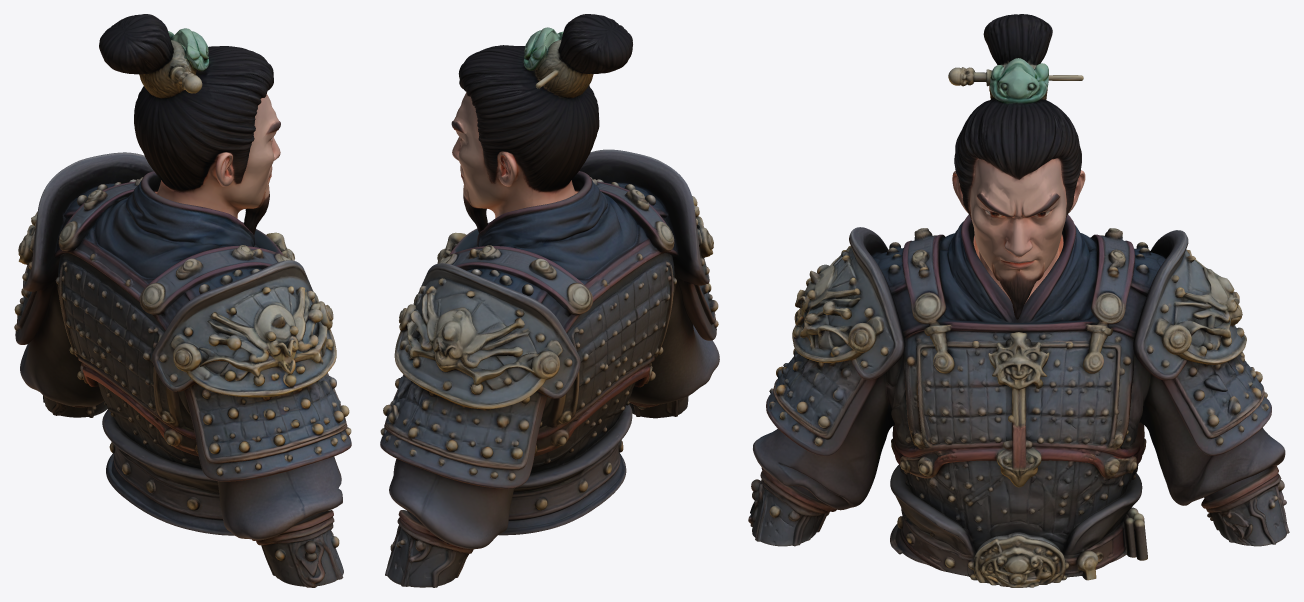
The model's file is warrior.glb.
3 renders of one model, left to right at view 1: azimuth 30°, elevation 25°; view 2: azimuth 150°, elevation 25°; view 3: azimuth 270°, elevation 25°, orthographic.
Visible parts, largest first — view 1: tripo_node_98dfec1f-80b4-4ba8-9c41-a97be231553c; view 2: tripo_node_98dfec1f-80b4-4ba8-9c41-a97be231553c; view 3: tripo_node_98dfec1f-80b4-4ba8-9c41-a97be231553c.
Part boxes in pixels (left/top/right/bottom): tripo_node_98dfec1f-80b4-4ba8-9c41-a97be231553c: left=14, top=14, right=351, bottom=587; tripo_node_98dfec1f-80b4-4ba8-9c41-a97be231553c: left=380, top=14, right=719, bottom=587; tripo_node_98dfec1f-80b4-4ba8-9c41-a97be231553c: left=748, top=14, right=1289, bottom=587.
Size of the model in its own units: 0.47 by 0.9818 by 0.9796.
Materials: 1 (1 with a texture image).
